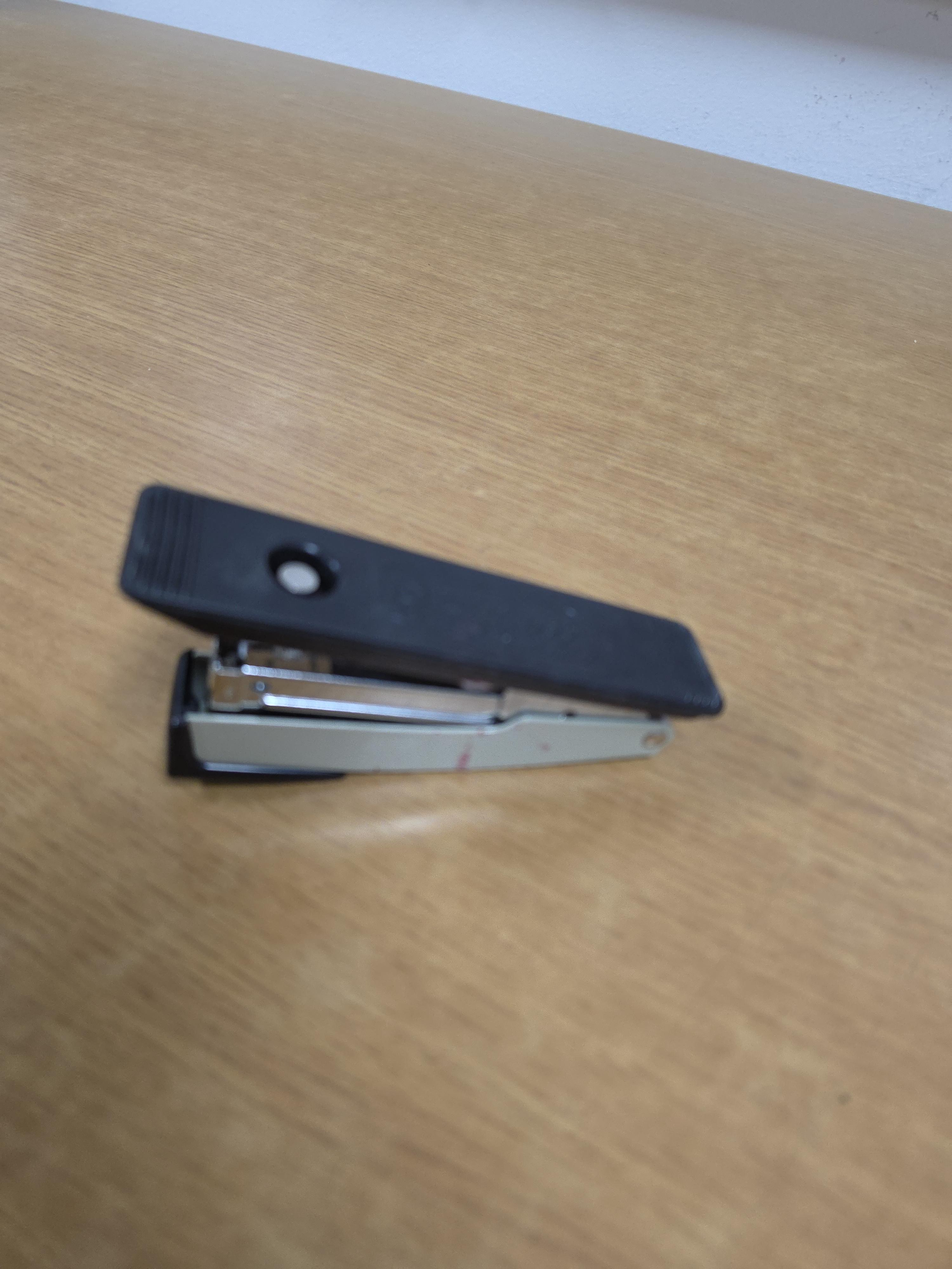stapler: (117, 483, 728, 785)
